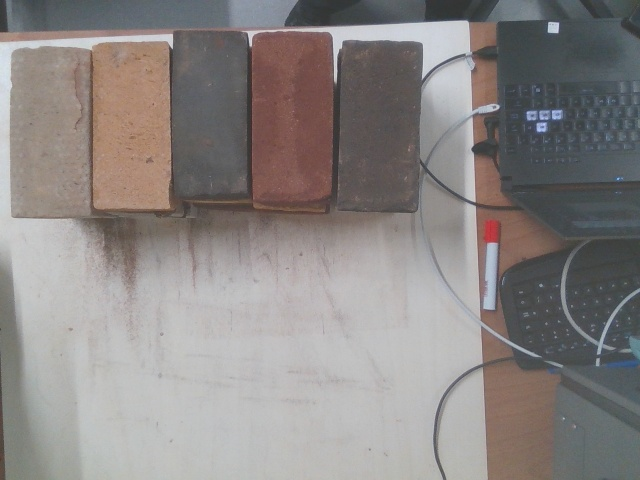brick: (339, 41, 421, 208), (254, 33, 332, 194), (171, 32, 249, 193), (92, 45, 170, 206), (11, 50, 89, 211)
